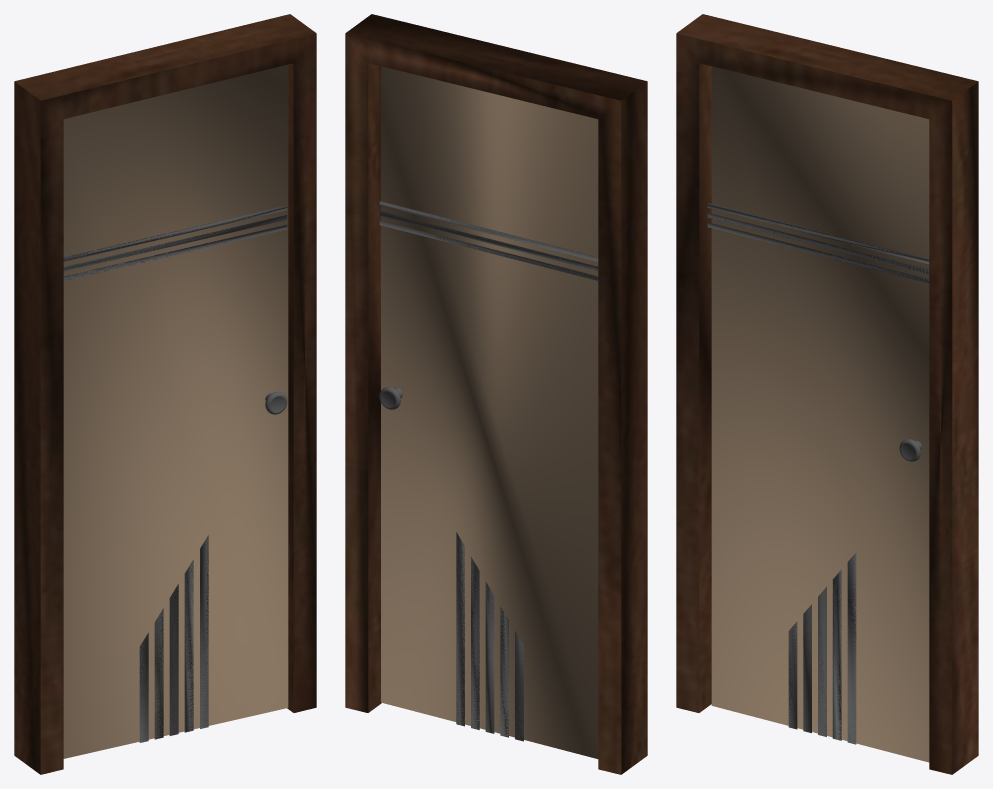
File: Door.fbx
The picture shows the model from 3 angles, left to right: view 1: azimuth 30°, elevation 25°; view 2: azimuth 150°, elevation 25°; view 3: azimuth 330°, elevation 25°; orthographic projection.
Visible parts, largest first — view 1: Door_Mesh, DoorFrame_Mesh; view 2: Door_Mesh, DoorFrame_Mesh; view 3: Door_Mesh, DoorFrame_Mesh.
Boxes of the visible parts, x1=… form: Door_Mesh: x1=63, y1=64, x2=288, y2=758; DoorFrame_Mesh: x1=14, y1=14, x2=316, y2=774; Door_Mesh: x1=379, y1=66, x2=598, y2=758; DoorFrame_Mesh: x1=345, y1=14, x2=647, y2=774; Door_Mesh: x1=707, y1=66, x2=929, y2=762; DoorFrame_Mesh: x1=676, y1=14, x2=978, y2=774.
Bounding box in the file's own units: 1.07 × 0.1966 × 2.49.
3 materials, 1 textured.
